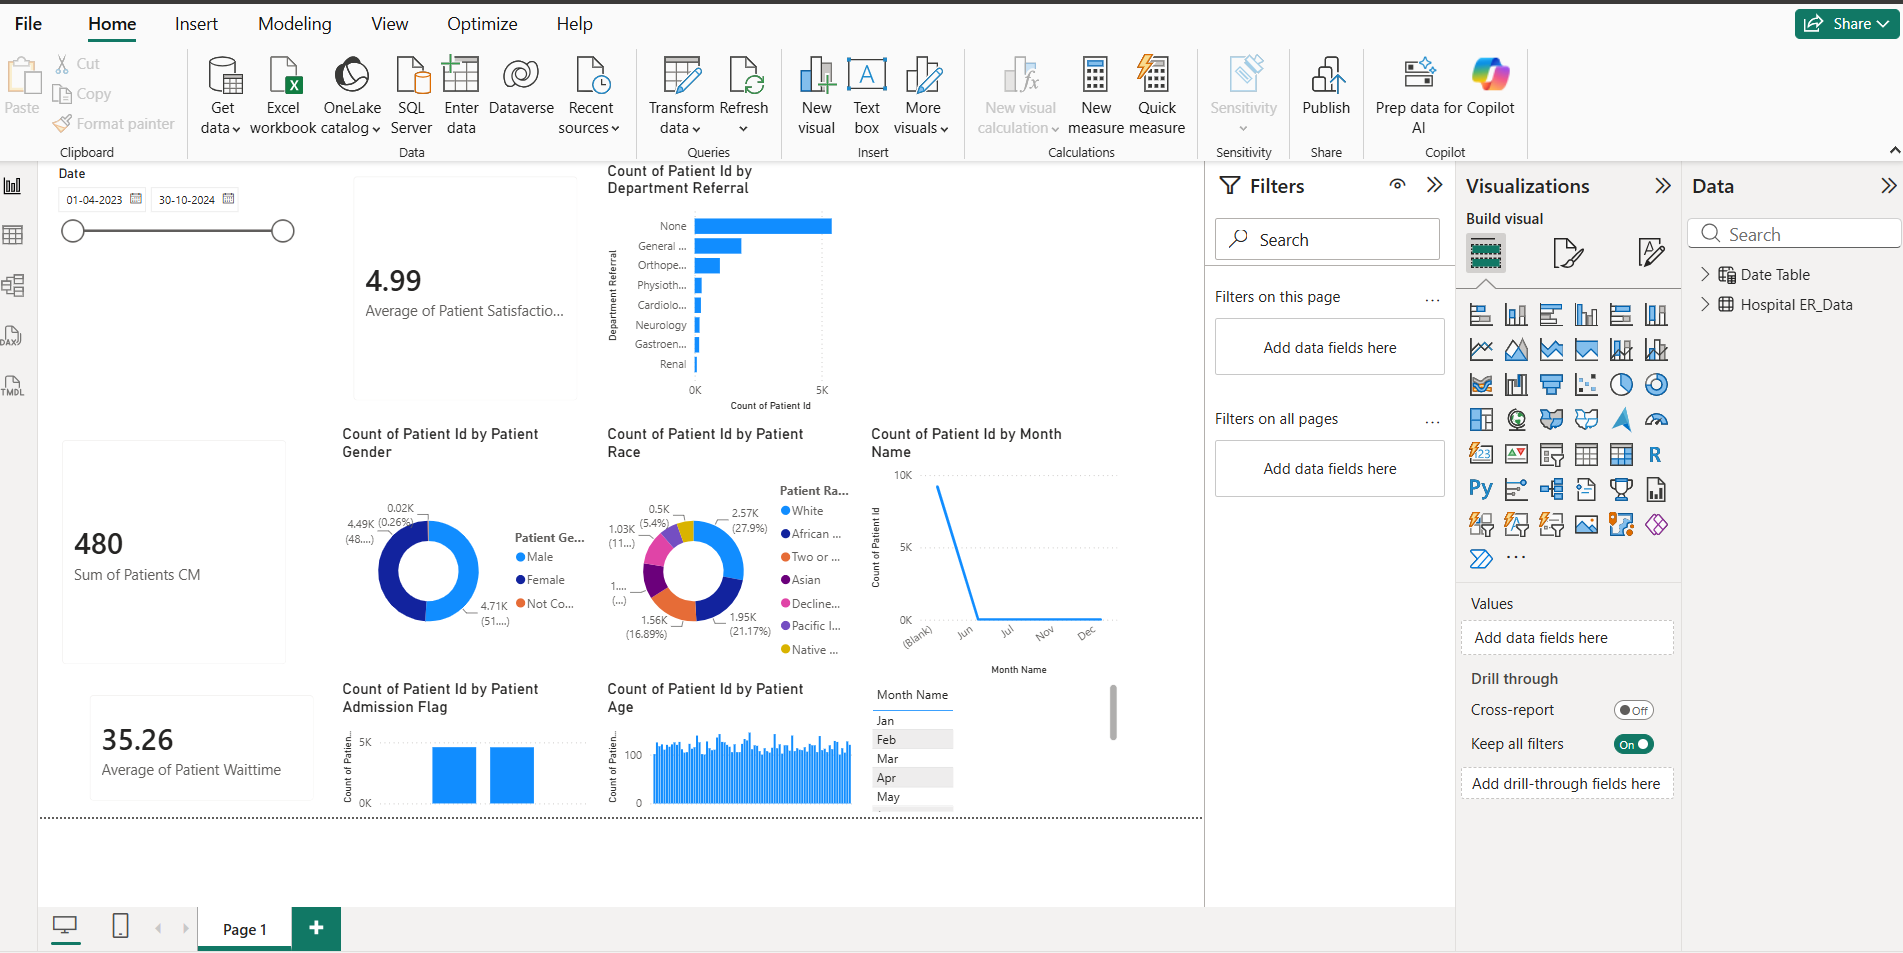

Layout of this report page (visuals, bound fields, positions):
{"tool":"powerbi","page":{"name":"Page 1","canvas":[1280,720],"ordinal":0},"visuals":[{"type":"slicer","fields":{"Values":["Date Table.Date"]},"box":[10,0,280,280],"z":0},{"type":"cardVisual","fields":{"Data":["Sum(Hospital ER_Data.Patients CM)"]},"box":[10,290,280,280],"z":1000},{"type":"cardVisual","fields":{"Data":["Avg(Hospital ER_Data.Patient Waittime)"]},"box":[10,570,280,150],"z":2000},{"type":"cardVisual","fields":{"Data":["Avg(Hospital ER_Data.Patient Waittime)"]},"box":[20,570,280,150],"z":3000},{"type":"cardVisual","fields":{"Data":["Avg(Hospital ER_Data.Patient Waittime)"]},"box":[30,570,280,150],"z":4000},{"type":"cardVisual","fields":{"Data":["Avg(Hospital ER_Data.Patient Waittime)"]},"box":[40,570,280,150],"z":5000},{"type":"cardVisual","fields":{"Data":["Avg(Hospital ER_Data.Patient Satisfaction Score)"]},"box":[330,0,280,280],"z":6000},{"type":"donutChart","fields":{"Category":["Hospital ER_Data.Patient Gender"],"Y":["CountNonNull(Hospital ER_Data.Patient Id)"]},"box":[330,290,280,280],"z":7000},{"type":"clusteredColumnChart","fields":{"Category":["Hospital ER_Data.Patient Admission Flag"],"Y":["CountNonNull(Hospital ER_Data.Patient Id)"]},"box":[330,570,280,150],"z":8000},{"type":"clusteredBarChart","fields":{"Category":["Hospital ER_Data.Department Referral"],"Y":["CountNonNull(Hospital ER_Data.Patient Id)"]},"box":[620,0,280,280],"z":9000},{"type":"donutChart","fields":{"Category":["Hospital ER_Data.Patient Race"],"Y":["CountNonNull(Hospital ER_Data.Patient Id)"]},"box":[620,290,280,280],"z":10000},{"type":"clusteredColumnChart","fields":{"Category":["Hospital ER_Data.Patient Age"],"Y":["CountNonNull(Hospital ER_Data.Patient Id)"]},"box":[620,570,280,150],"z":11000},{"type":"lineChart","fields":{"Category":["Date Table.Month Name"],"Y":["CountNonNull(Hospital ER_Data.Patient Id)"]},"box":[910,290,280,280],"z":12000},{"type":"tableEx","fields":{"Values":["Date Table.Month Name"]},"box":[910,570,280,150],"z":13000}]}

Visuals, with their boxes on the page's 1280x720 design canvas (x1, y1, x2, y2). These are canvas units, not pixel positions in the 1903x953 screenshot, which may show the page scaled, cropped or inside an application window:
slicer - Date Table.Date: <bbox>10, 0, 290, 280</bbox>
cardVisual - Sum(Hospital ER_Data.Patients CM): <bbox>10, 290, 290, 570</bbox>
cardVisual - Avg(Hospital ER_Data.Patient Waittime): <bbox>10, 570, 290, 720</bbox>
cardVisual - Avg(Hospital ER_Data.Patient Waittime): <bbox>20, 570, 300, 720</bbox>
cardVisual - Avg(Hospital ER_Data.Patient Waittime): <bbox>30, 570, 310, 720</bbox>
cardVisual - Avg(Hospital ER_Data.Patient Waittime): <bbox>40, 570, 320, 720</bbox>
cardVisual - Avg(Hospital ER_Data.Patient Satisfaction Score): <bbox>330, 0, 610, 280</bbox>
donutChart - Hospital ER_Data.Patient Gender x CountNonNull(Hospital ER_Data.Patient Id): <bbox>330, 290, 610, 570</bbox>
clusteredColumnChart - Hospital ER_Data.Patient Admission Flag x CountNonNull(Hospital ER_Data.Patient Id): <bbox>330, 570, 610, 720</bbox>
clusteredBarChart - Hospital ER_Data.Department Referral x CountNonNull(Hospital ER_Data.Patient Id): <bbox>620, 0, 900, 280</bbox>
donutChart - Hospital ER_Data.Patient Race x CountNonNull(Hospital ER_Data.Patient Id): <bbox>620, 290, 900, 570</bbox>
clusteredColumnChart - Hospital ER_Data.Patient Age x CountNonNull(Hospital ER_Data.Patient Id): <bbox>620, 570, 900, 720</bbox>
lineChart - Date Table.Month Name x CountNonNull(Hospital ER_Data.Patient Id): <bbox>910, 290, 1190, 570</bbox>
tableEx - Date Table.Month Name: <bbox>910, 570, 1190, 720</bbox>
